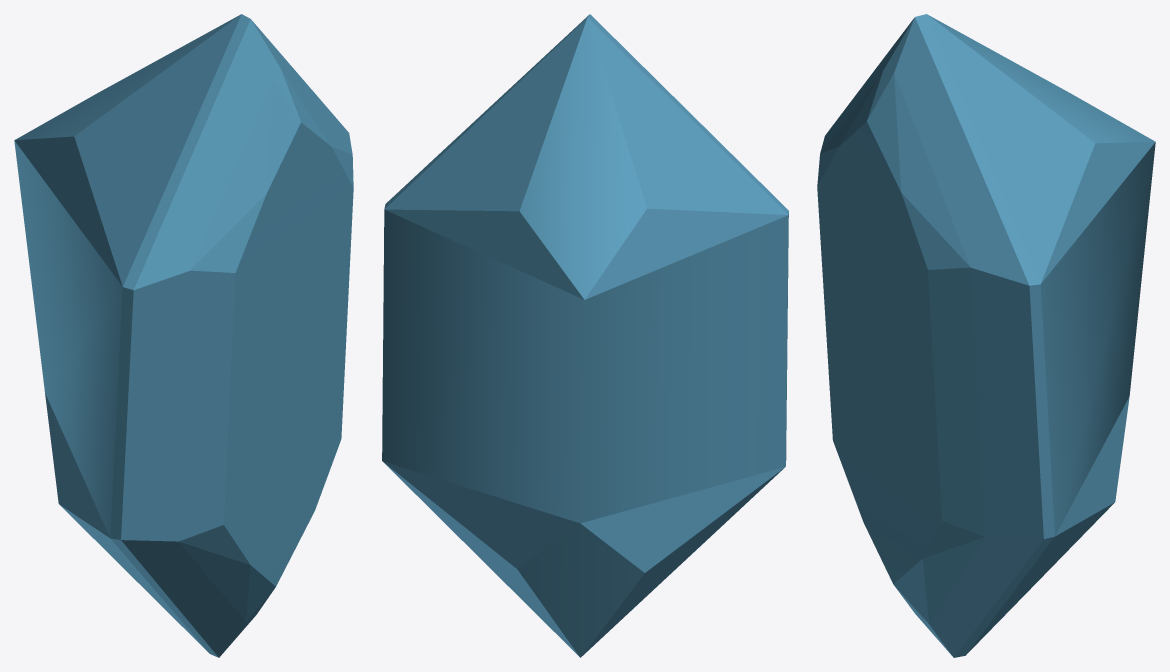
Rendered from TR2_8shapes_Hex_Classic_Stone.001 3.glb.
3 views of the same model, side by side, from view 1: azimuth 30°, elevation 25°; view 2: azimuth 150°, elevation 25°; view 3: azimuth 270°, elevation 25° (orthographic). The views are drawn at different scales.
Visible parts, largest first — view 1: TR2_8shapes_Hex_Classic_Stone.001; view 2: TR2_8shapes_Hex_Classic_Stone.001; view 3: TR2_8shapes_Hex_Classic_Stone.001.
Part boxes in pixels (x1,y1,x2,y2): TR2_8shapes_Hex_Classic_Stone.001: [14, 14, 353, 657]; TR2_8shapes_Hex_Classic_Stone.001: [382, 14, 788, 657]; TR2_8shapes_Hex_Classic_Stone.001: [817, 14, 1155, 657].
Size of the model in its own units: 0.3778 by 0.7166 by 0.3391.
